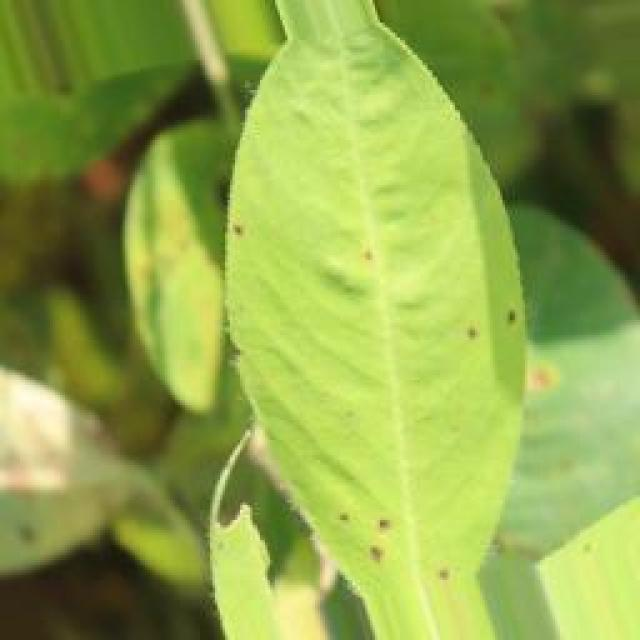Sigatoka: (337, 488, 391, 578), (450, 305, 491, 376), (349, 229, 391, 274), (490, 295, 526, 345), (431, 543, 463, 596), (222, 208, 255, 248)
